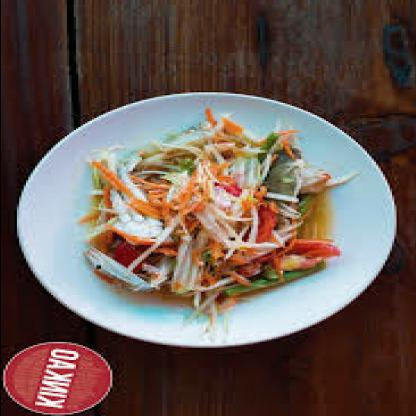Papaya Salad: (28, 126, 346, 324)
